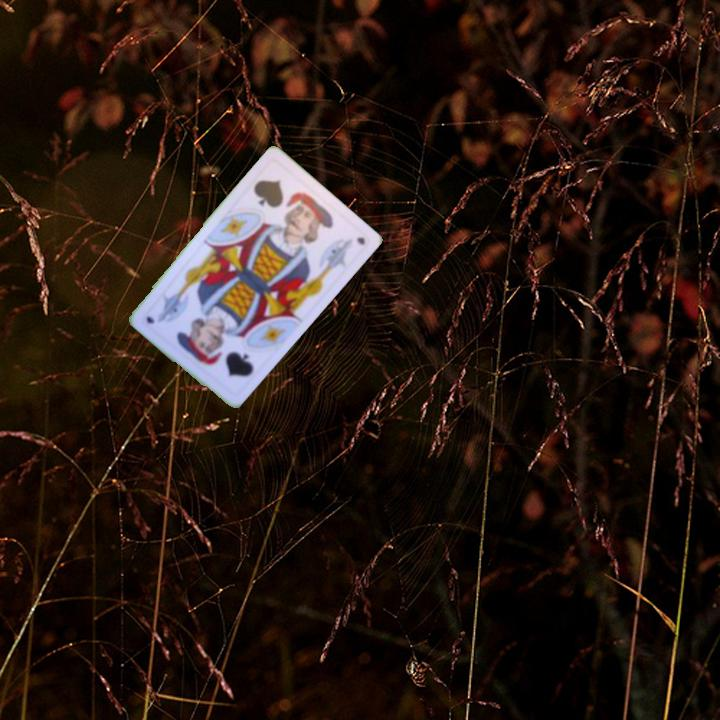s_j.png: (183, 313, 269, 399), (237, 157, 323, 243)
